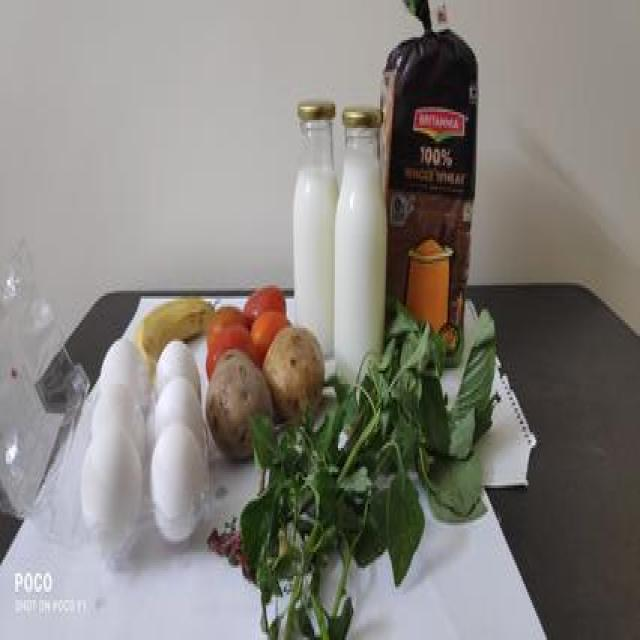Fresh_Spinach: (247, 293, 511, 608)
Fresh_tomato: (240, 292, 307, 347), (202, 302, 252, 359)
